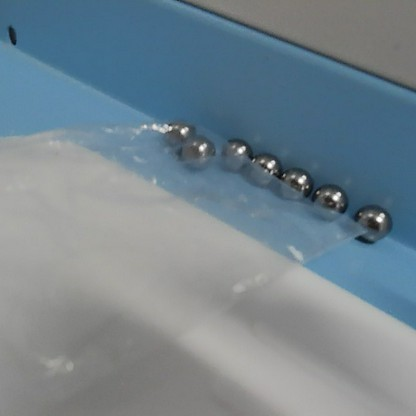ironball: (349, 195, 394, 249), (306, 175, 348, 221), (241, 143, 281, 185), (181, 132, 217, 172), (216, 132, 252, 170), (277, 165, 311, 205), (161, 116, 200, 146)
